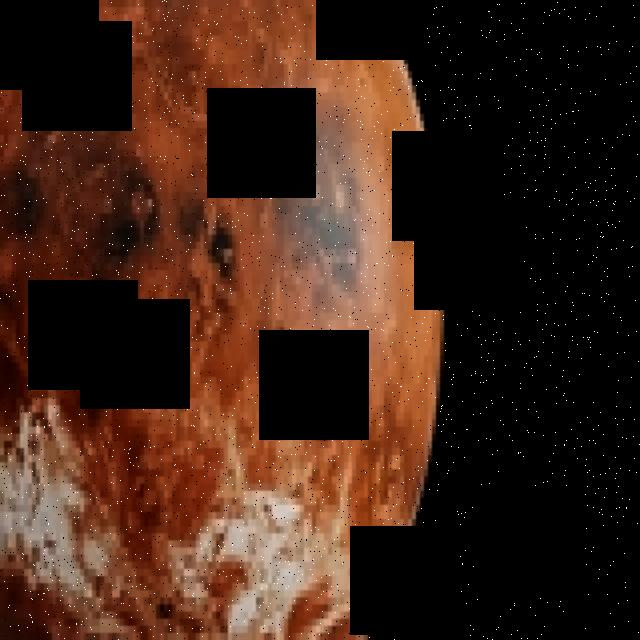Venus: (0, 0, 444, 640)
